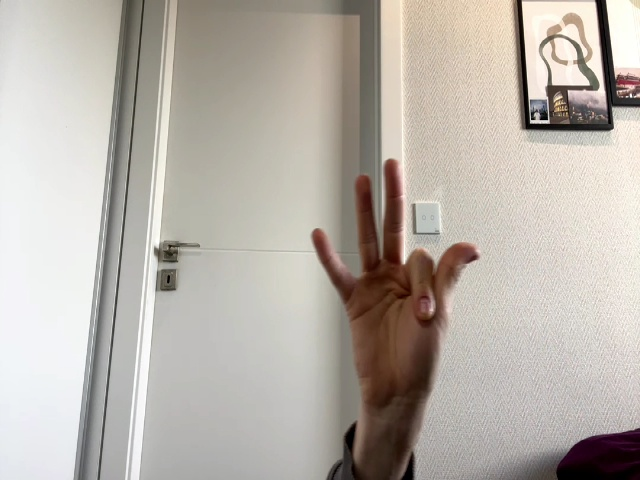F: (312, 159, 480, 399)
